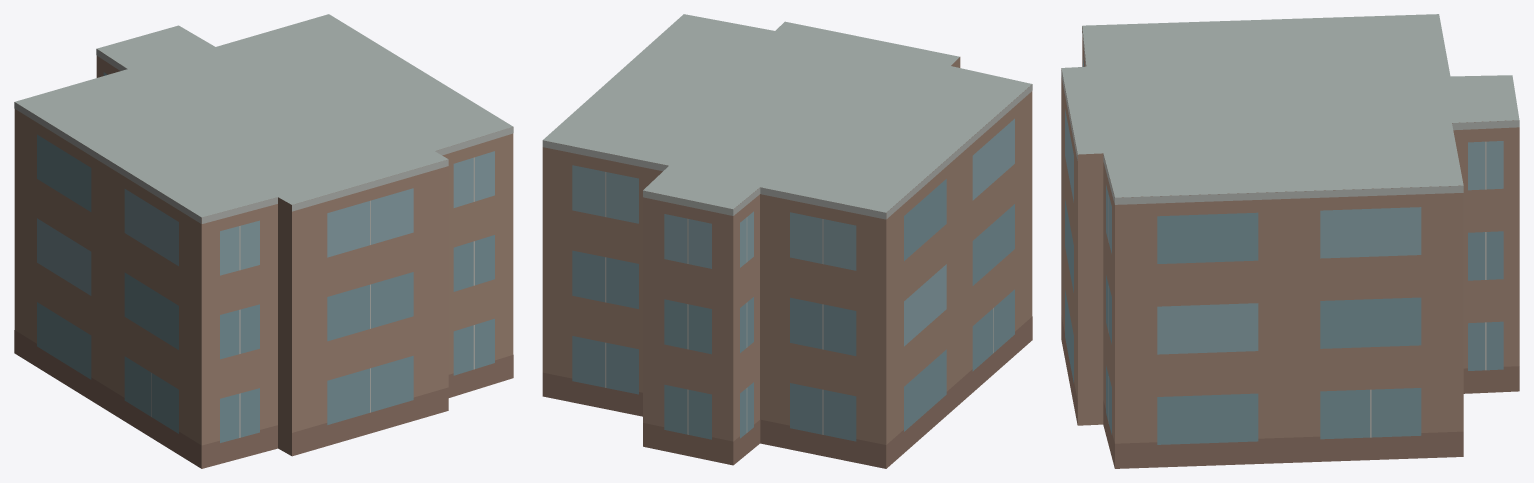
File: survey-upis-32705348.glb
The picture shows the model from 3 angles, left to right: view 1: azimuth 30°, elevation 25°; view 2: azimuth 150°, elevation 25°; view 3: azimuth 270°, elevation 25°; orthographic projection. The views are drawn at different scales.
Parts seen in each view (by area): view 1: survey-upis-32705348.tmp; view 2: survey-upis-32705348.tmp; view 3: survey-upis-32705348.tmp.
Part boxes in pixels (x1=…): survey-upis-32705348.tmp: x1=14, y1=14, x2=513, y2=468; survey-upis-32705348.tmp: x1=542, y1=14, x2=1032, y2=468; survey-upis-32705348.tmp: x1=1061, y1=14, x2=1519, y2=468.
Bounding box in the file's own units: 13.3 × 9.15 × 14.02.
